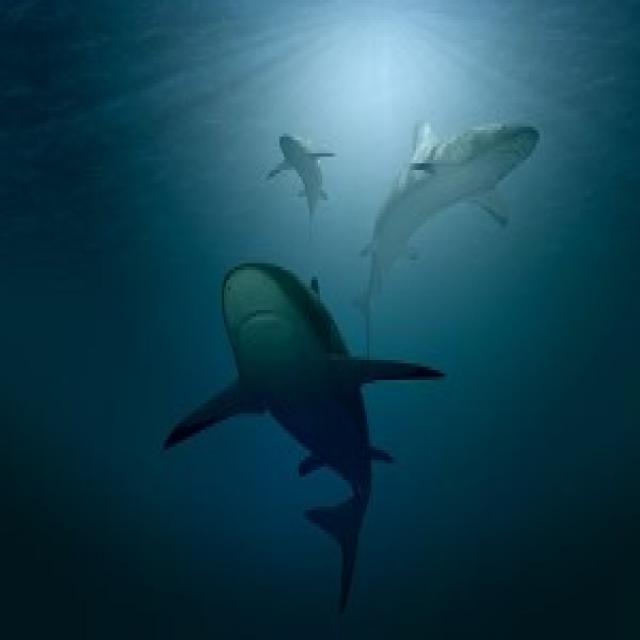Shark: (140, 256, 448, 597), (364, 102, 574, 330), (267, 120, 341, 240)
